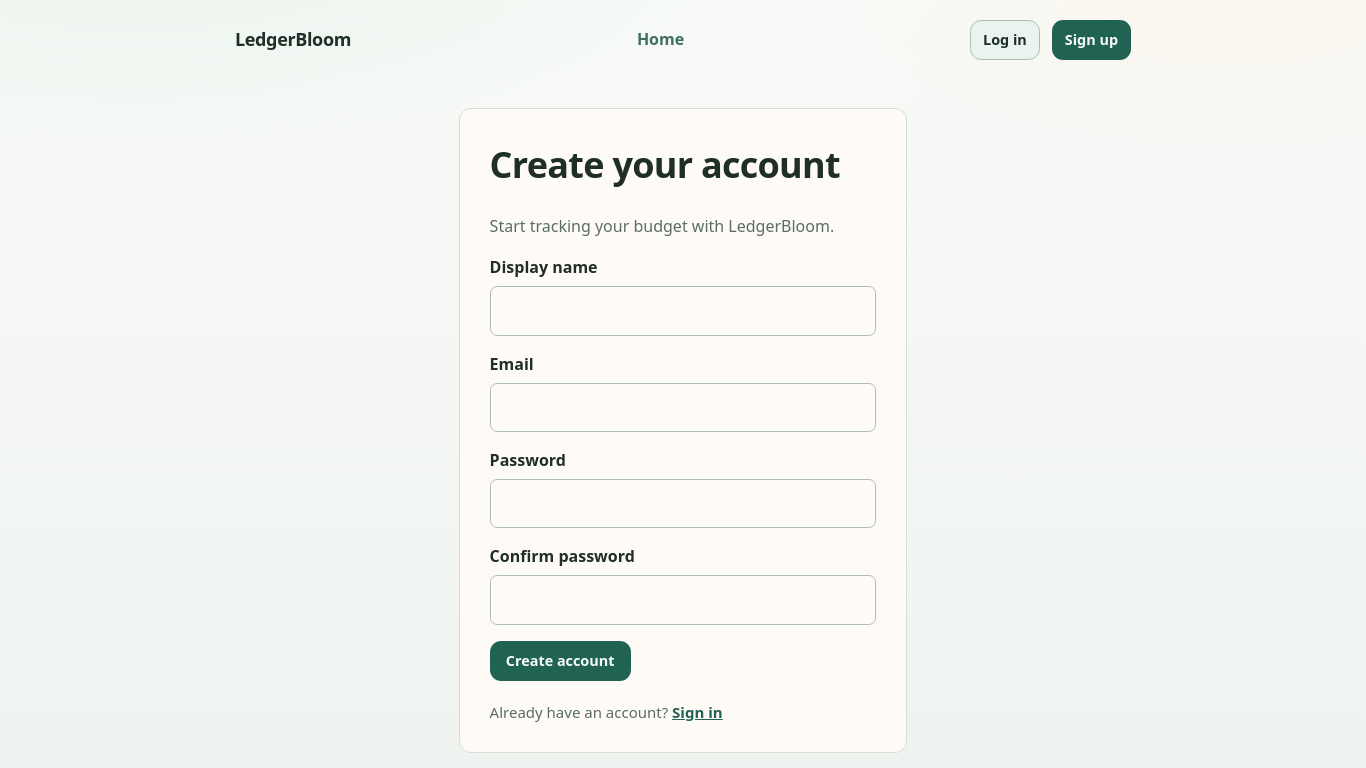
Scenario: Auth routes › shows a duplicate email error from the server on register
The image size is (1366, 768).
Type "Jane Doe" into the field labelled "Display name" at x=683, y=311, box x1=490 y1=286 x2=876 y2=336
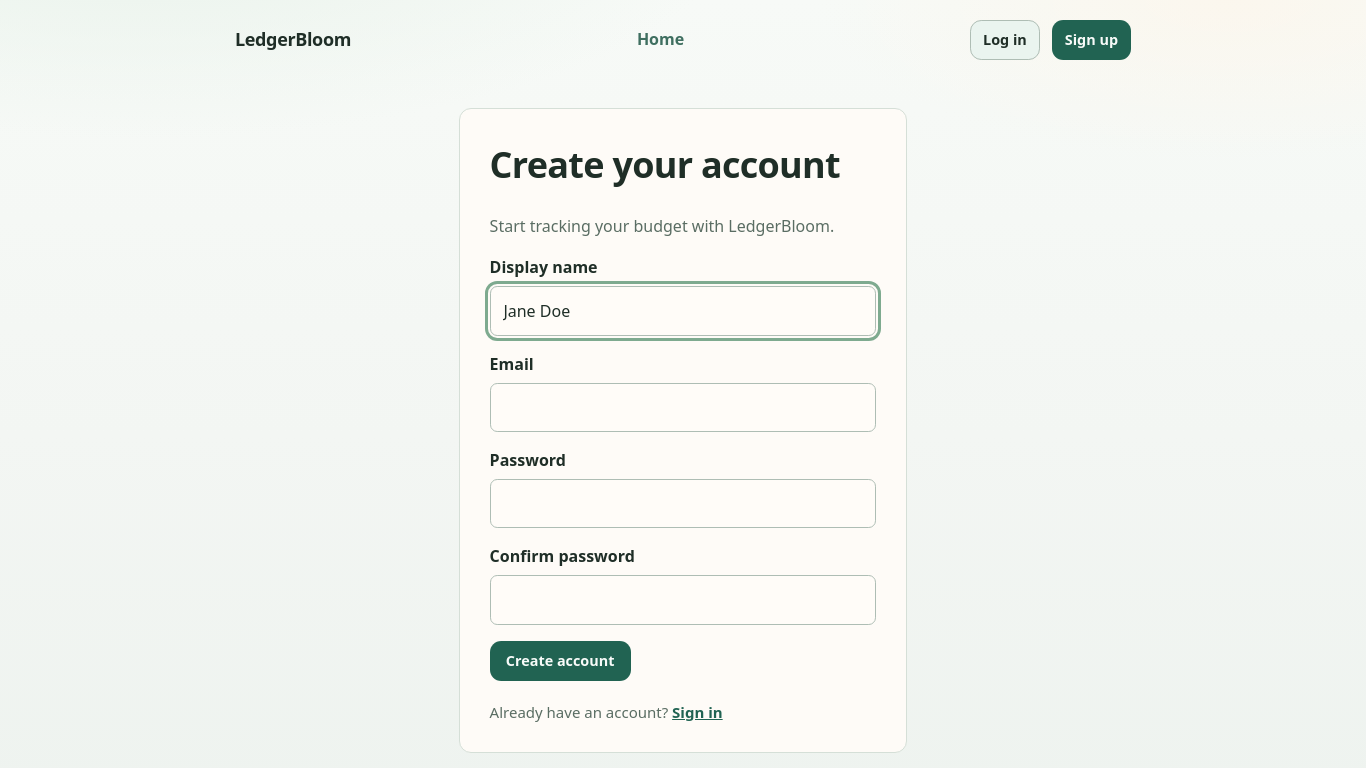
Type "user@example.com" into the field labelled "Email" at x=683, y=407, box x1=490 y1=383 x2=876 y2=432
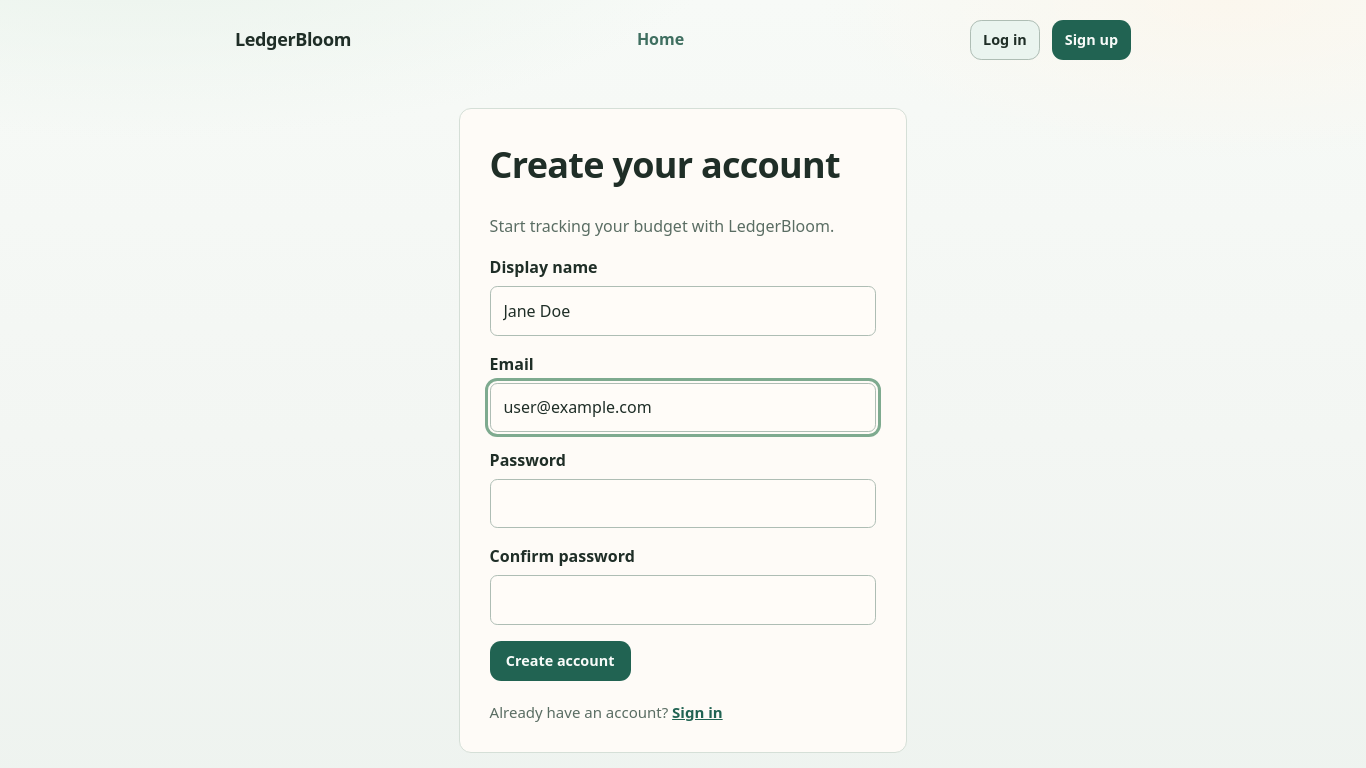
Type "supersecret12" into the password field labelled "Password" at x=683, y=504, box x1=490 y1=479 x2=876 y2=528
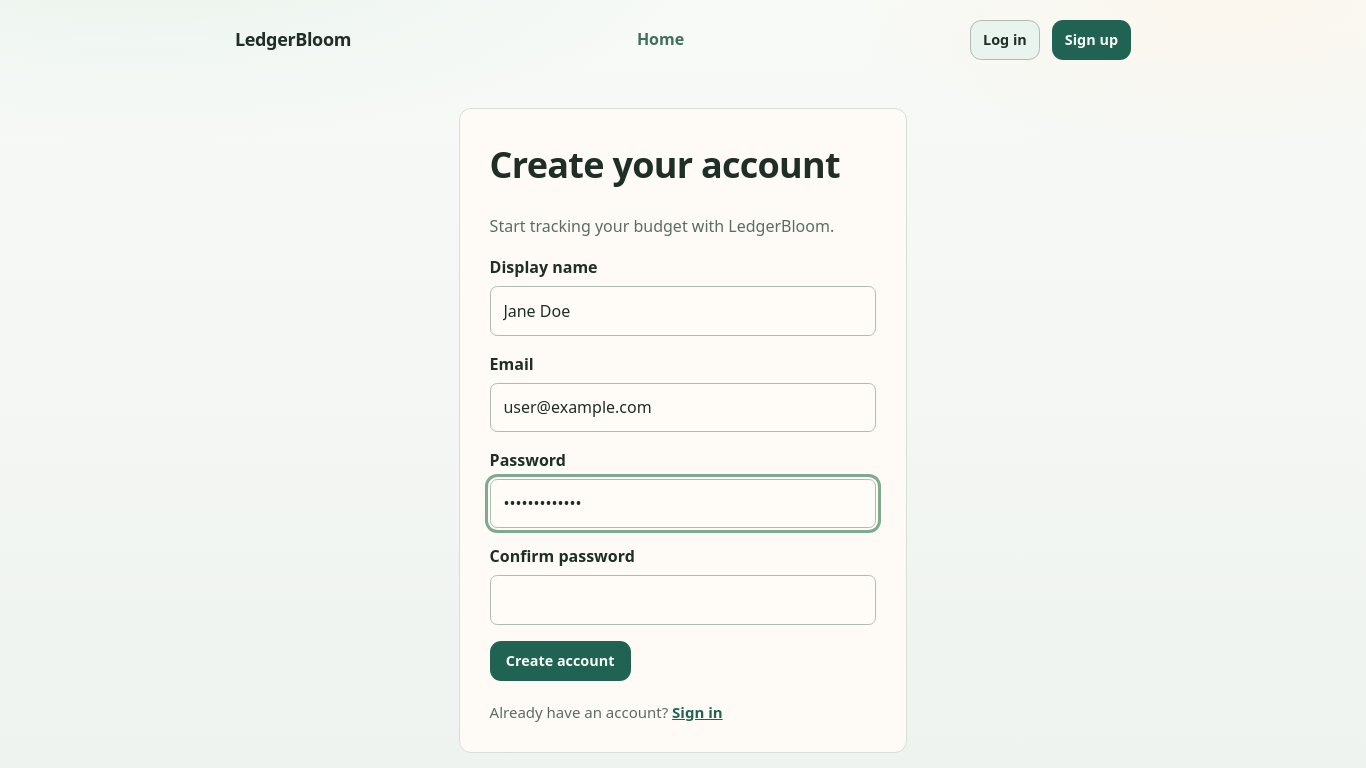
Type "supersecret12" into the password field labelled "Confirm password" at x=683, y=600, box x1=490 y1=576 x2=876 y2=625
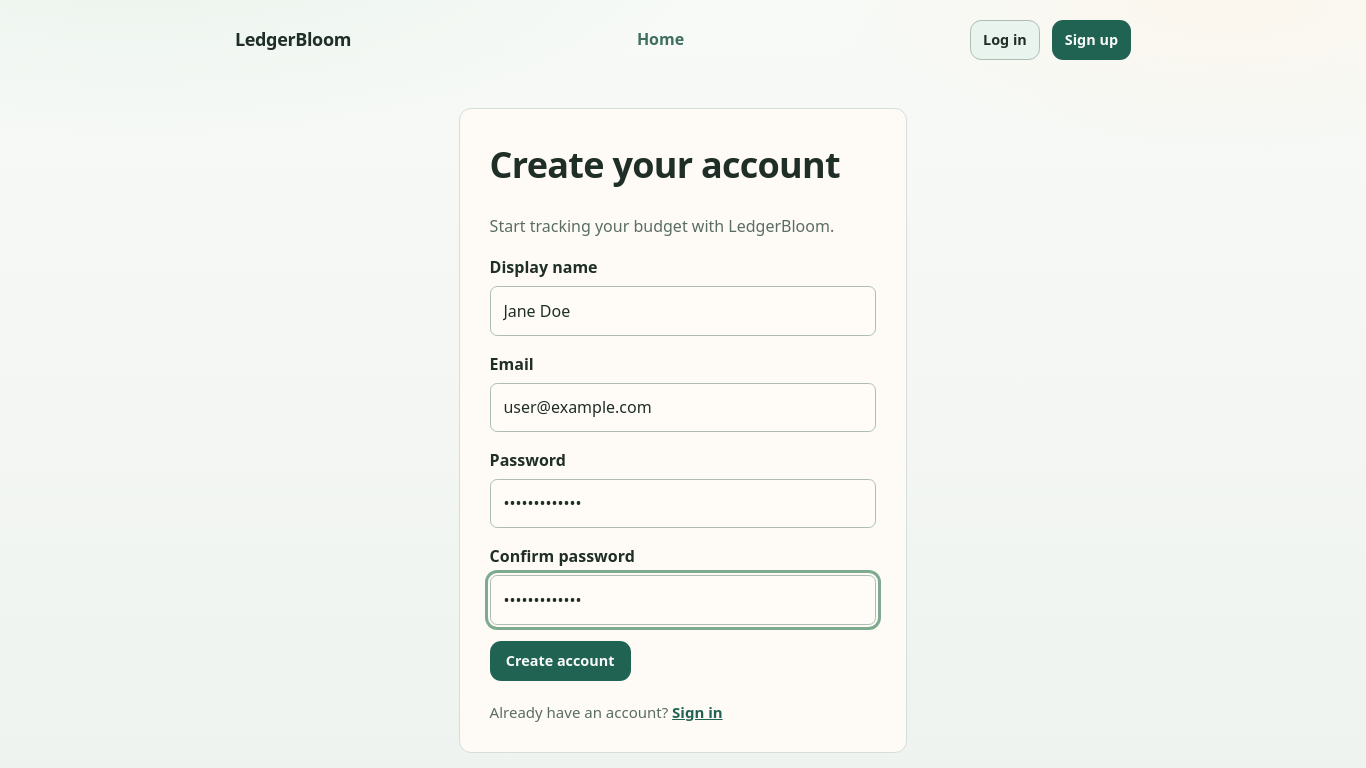
Click the button "Create account" at x=560, y=661, box x1=490 y1=641 x2=631 y2=681
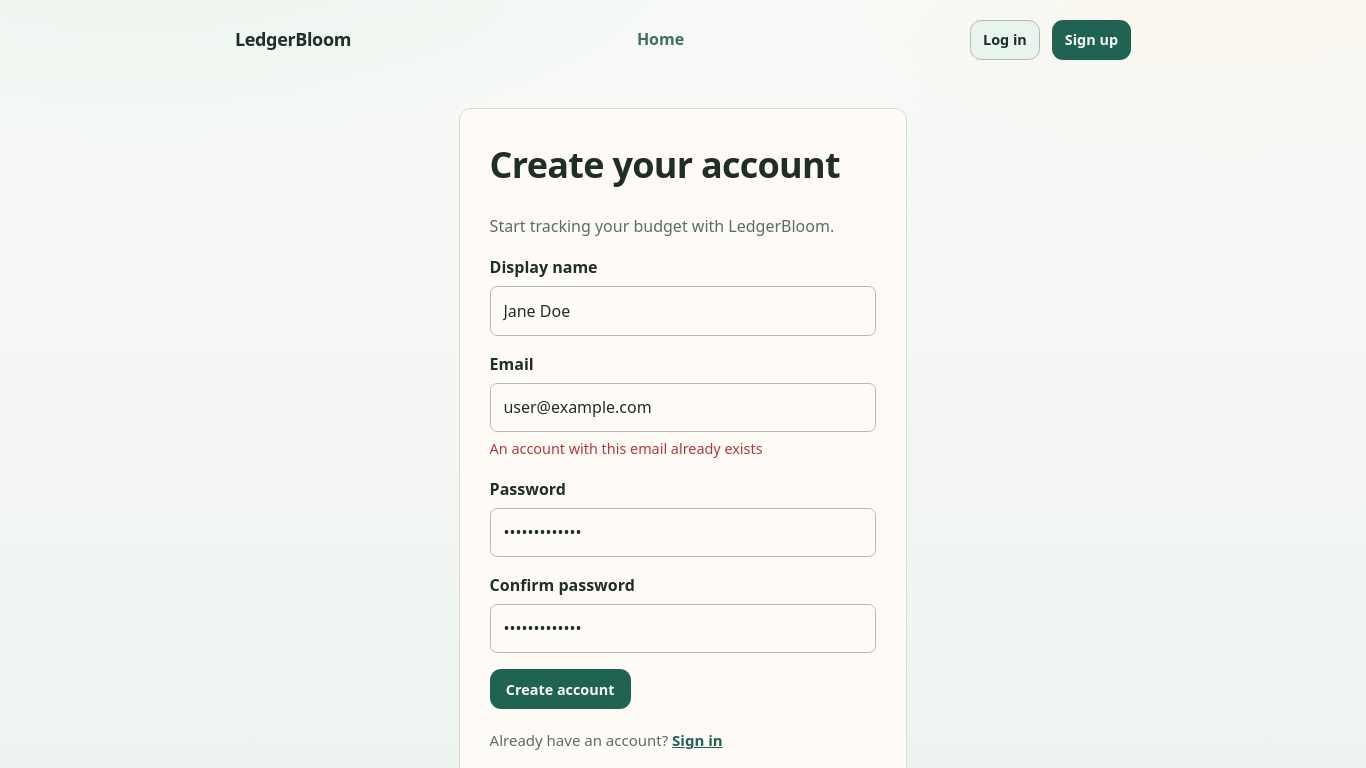
Expected: the text "An account with this email already exists" is shown, x1=490 y1=439 x2=763 y2=458
